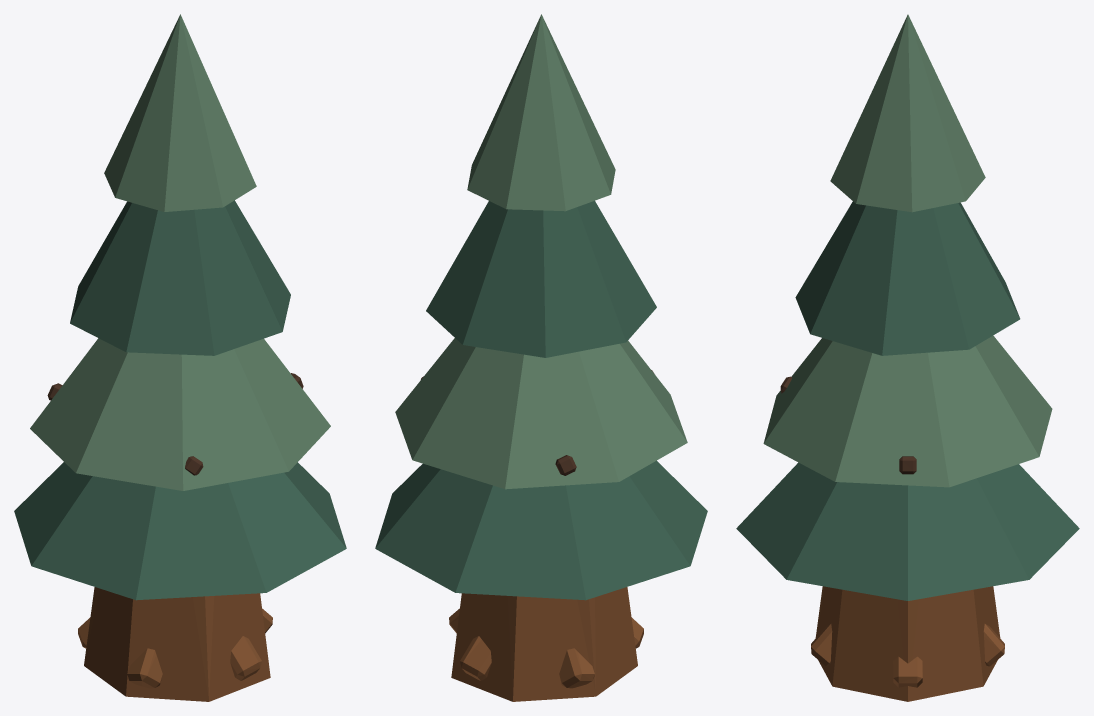
Rendered from tree_pine_b.glb.
The picture shows the model from 3 angles, left to right: view 1: azimuth 30°, elevation 25°; view 2: azimuth 150°, elevation 25°; view 3: azimuth 270°, elevation 25°; orthographic projection.
Visible parts, largest first — view 1: canopy, trunk; view 2: canopy, trunk; view 3: canopy, trunk.
Boxes of the visible parts, <box> form: canopy: <box>14,14,346,600</box>; trunk: <box>78,587,272,701</box>; canopy: <box>375,14,707,600</box>; trunk: <box>449,587,643,701</box>; canopy: <box>736,14,1079,600</box>; trunk: <box>811,586,1004,701</box>.
Size of the model in its own units: 1.28 by 2.66 by 1.28.
